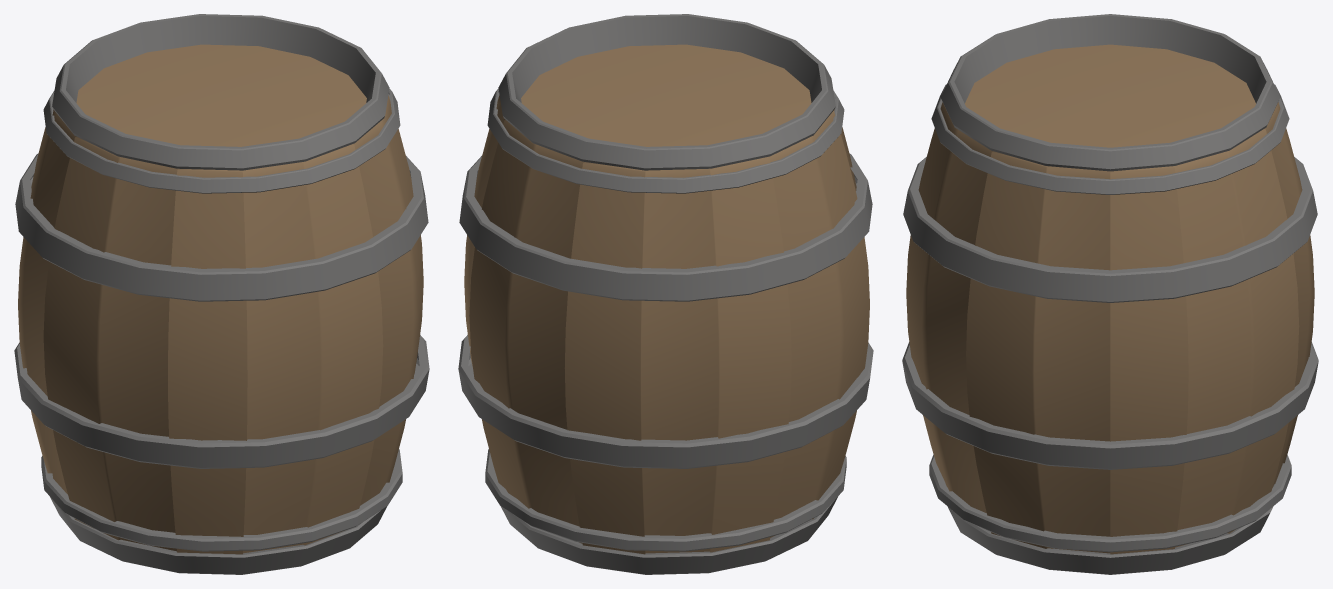
Rendered from tonneau_ (2).fbx.
3 views of the same model, side by side, from view 1: azimuth 30°, elevation 25°; view 2: azimuth 150°, elevation 25°; view 3: azimuth 270°, elevation 25° (orthographic).
Visible parts, largest first — view 1: pCylinder6; view 2: pCylinder6; view 3: pCylinder6.
Boxes of the visible parts, x1,y1,x2,y2 form: pCylinder6: [14, 14, 429, 574]; pCylinder6: [458, 14, 873, 574]; pCylinder6: [902, 14, 1318, 574].
Bounding box in the file's own units: 188 × 212 × 188.
